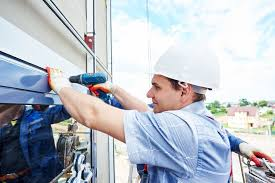Person_wearing_helmet: (139, 38, 220, 94)
